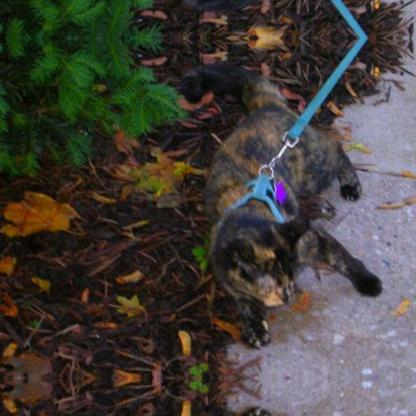Dog: (179, 64, 382, 348)
